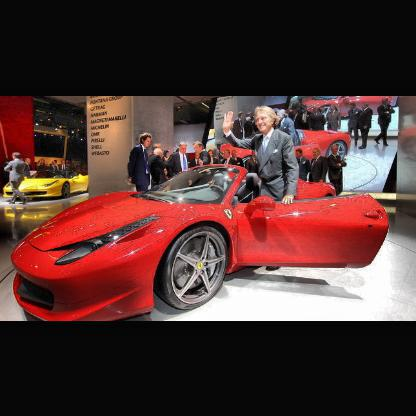Ferrari 458 Italia Convertible 2012: (14, 168, 390, 320)
